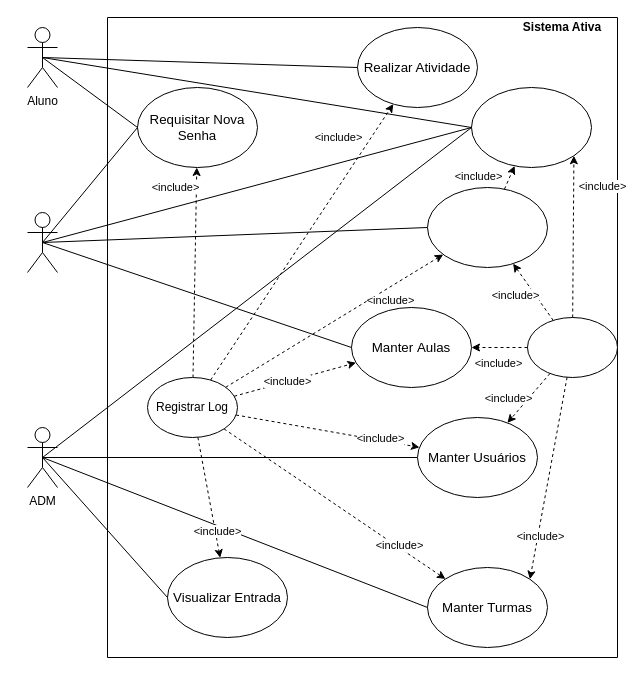
This 644x681 diagram has some shape labels left out. Here are the shapes that lost their labels. From the top down, the centre of each, then its label:
the point at 531,127: Realizar Login
the point at 42,242: Professor
the point at 487,227: Manter Matérias
the point at 572,347: Consultar base de dados
